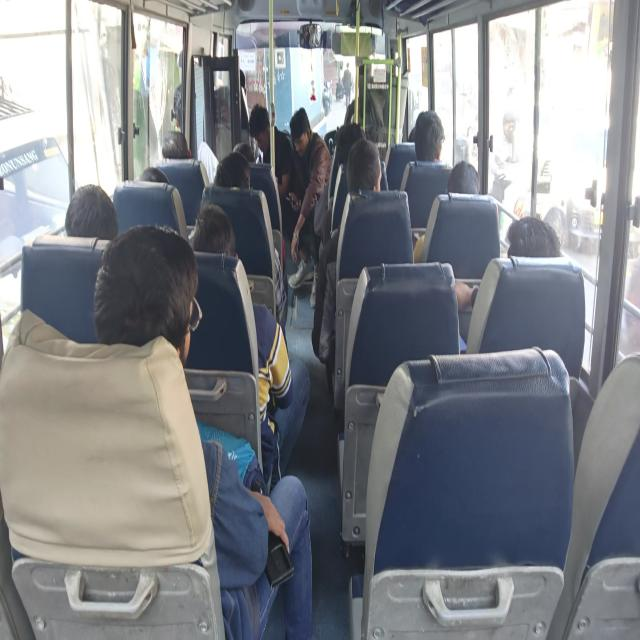person: (129, 273, 200, 366), (63, 176, 119, 257), (505, 228, 564, 271), (450, 160, 496, 208), (194, 208, 234, 254), (218, 152, 252, 204), (338, 122, 374, 169), (416, 116, 444, 171), (349, 153, 381, 201), (140, 164, 174, 202), (161, 124, 193, 162), (175, 83, 203, 126), (231, 134, 256, 170), (349, 56, 374, 89), (249, 117, 271, 154), (290, 115, 311, 152), (231, 69, 251, 94)
